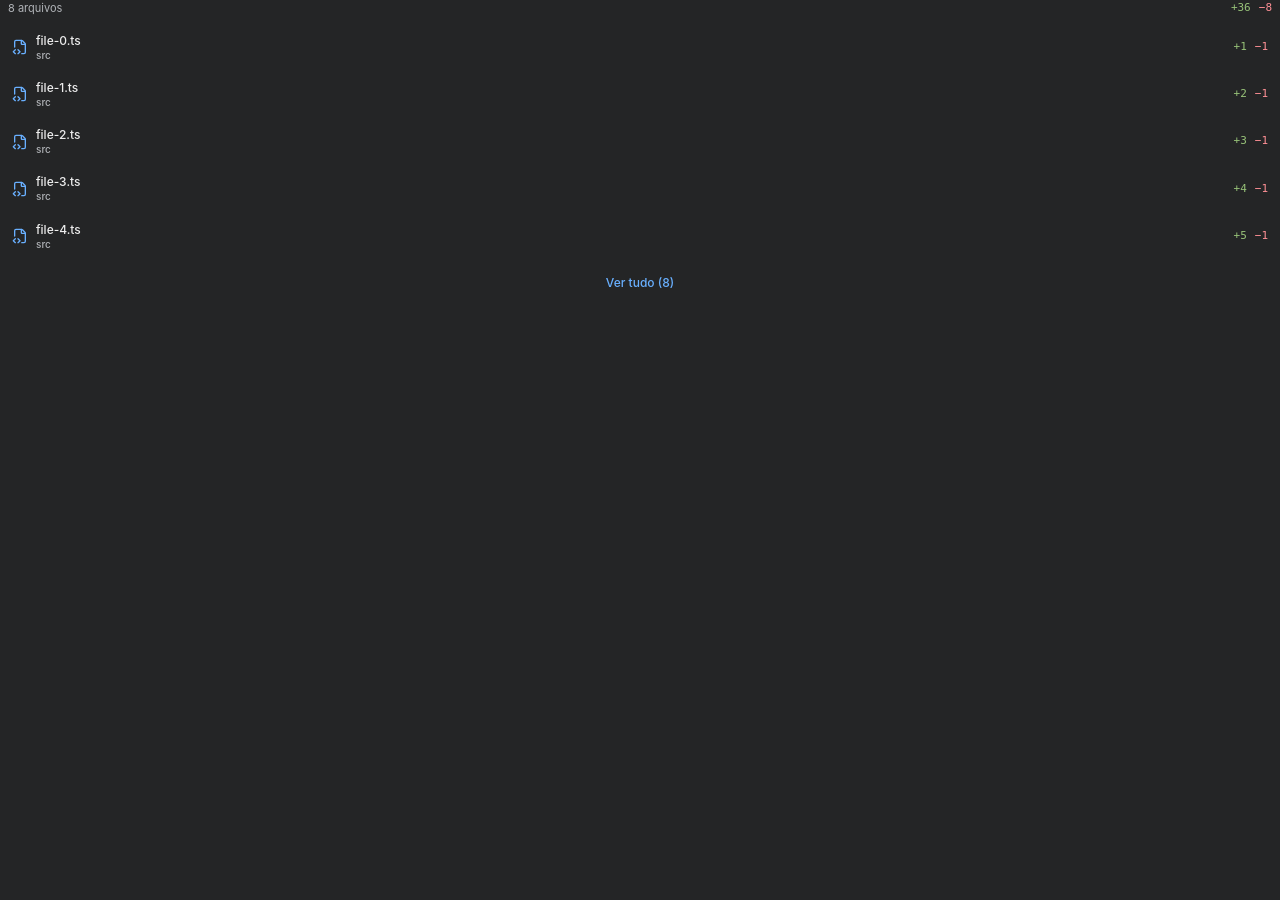
Test: Changed file review › ignores a slow previous diff when the file selection changes
The image size is (1280, 900).
Click the button with aria-label "Alterações em src/file-0.ts": (58, 40) x1=0 y1=24 x2=1279 y2=70
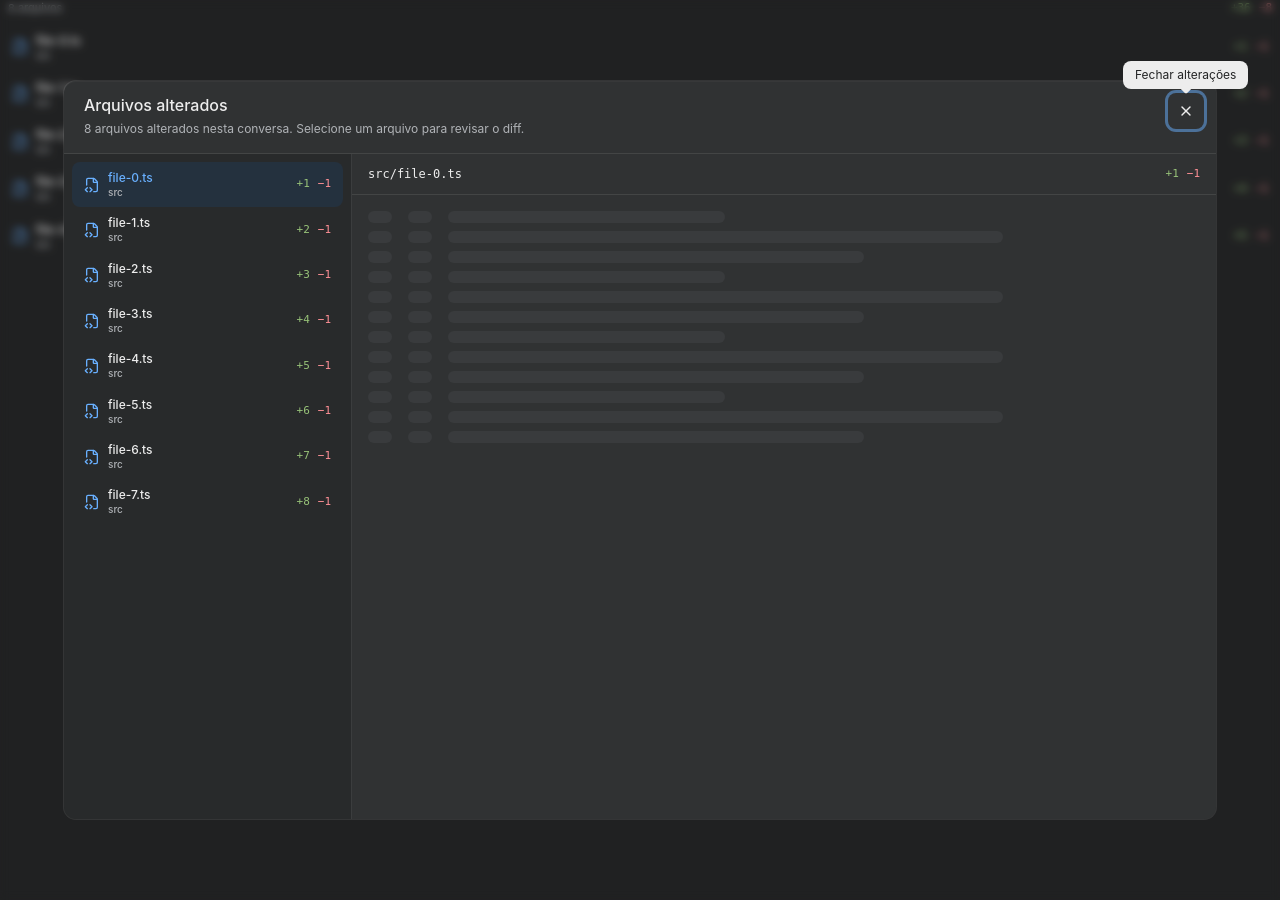
Click the button with aria-label "Alterações em src/file-1.ts": (129, 223) x1=72 y1=207 x2=343 y2=253
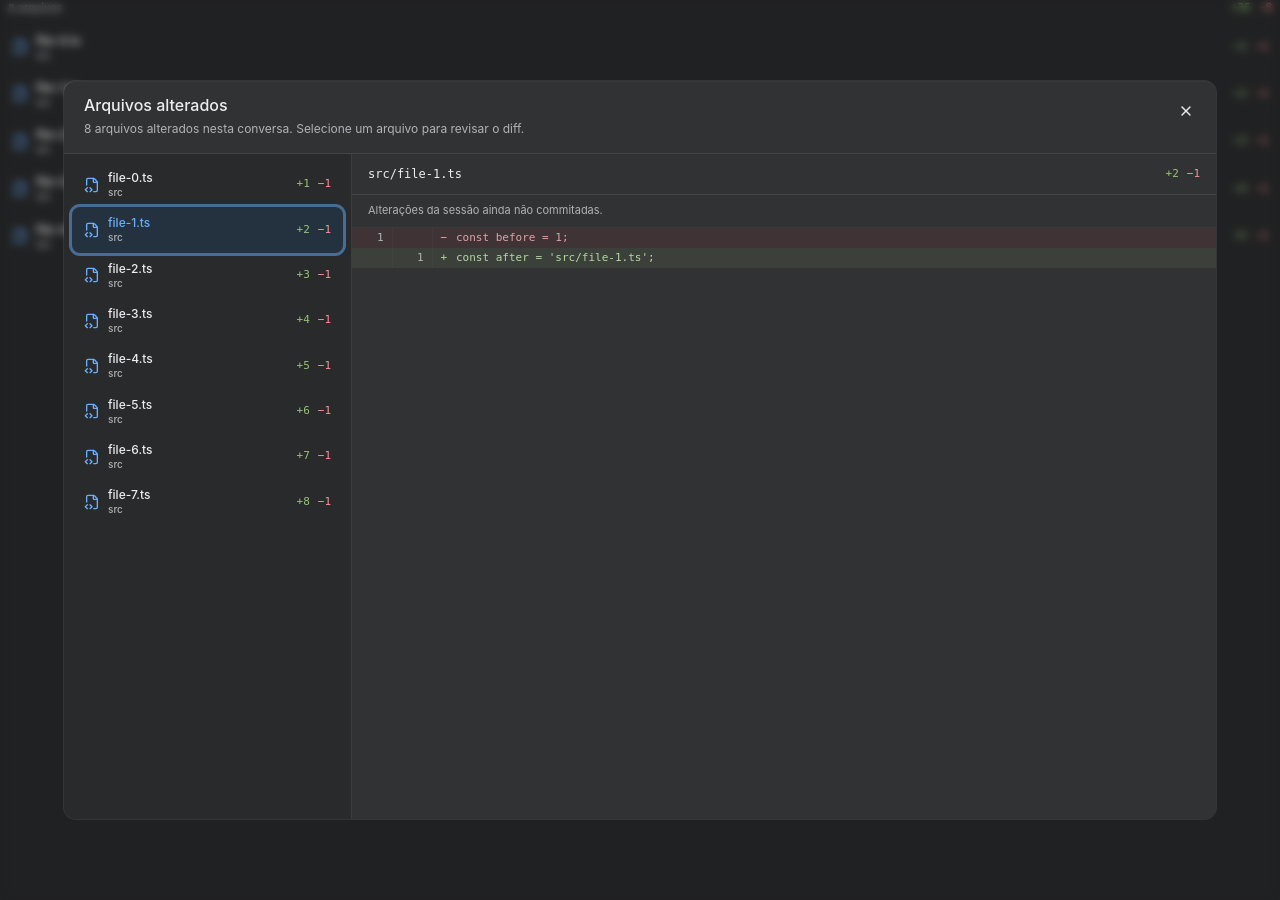
expect the text "const after = 'src/file-1.ts';" is shown: met, box x1=456 y1=248 x2=1216 y2=268
